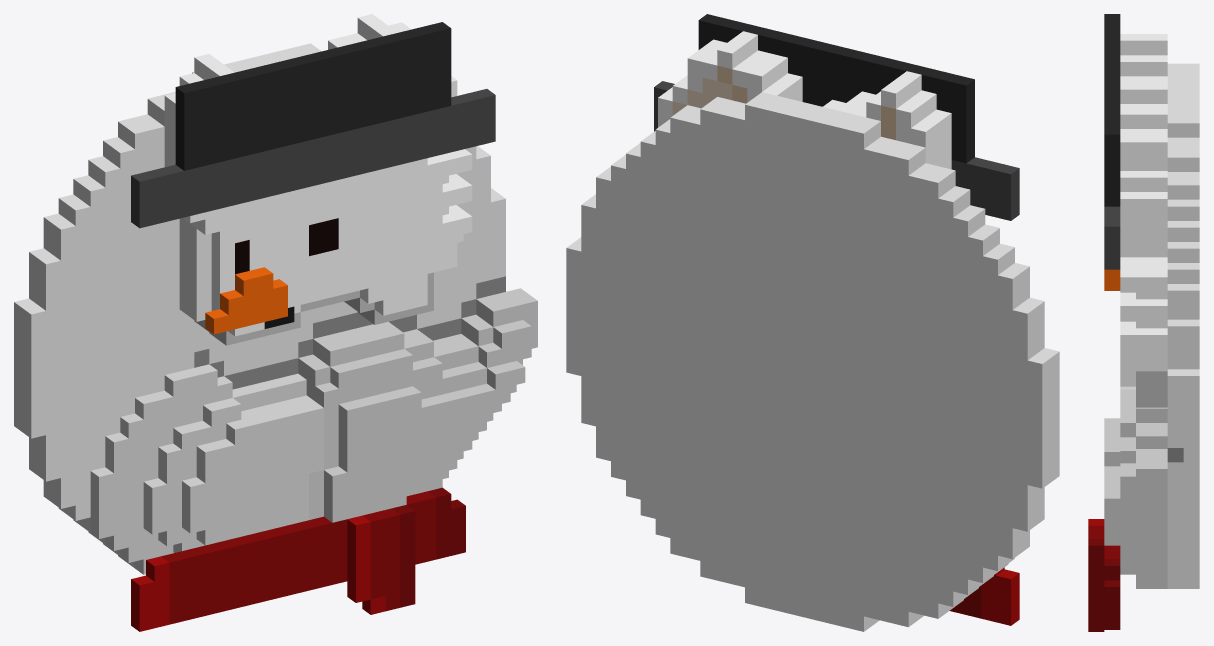
Rendered from itemfox.obj.
3 renders of one model, left to right at view 1: azimuth 30°, elevation 25°; view 2: azimuth 150°, elevation 25°; view 3: azimuth 270°, elevation 25°, orthographic. The views are drawn at different scales.
Size of the model in its own units: 3.3 by 3.6 by 0.7.
1 material, 1 textured.
